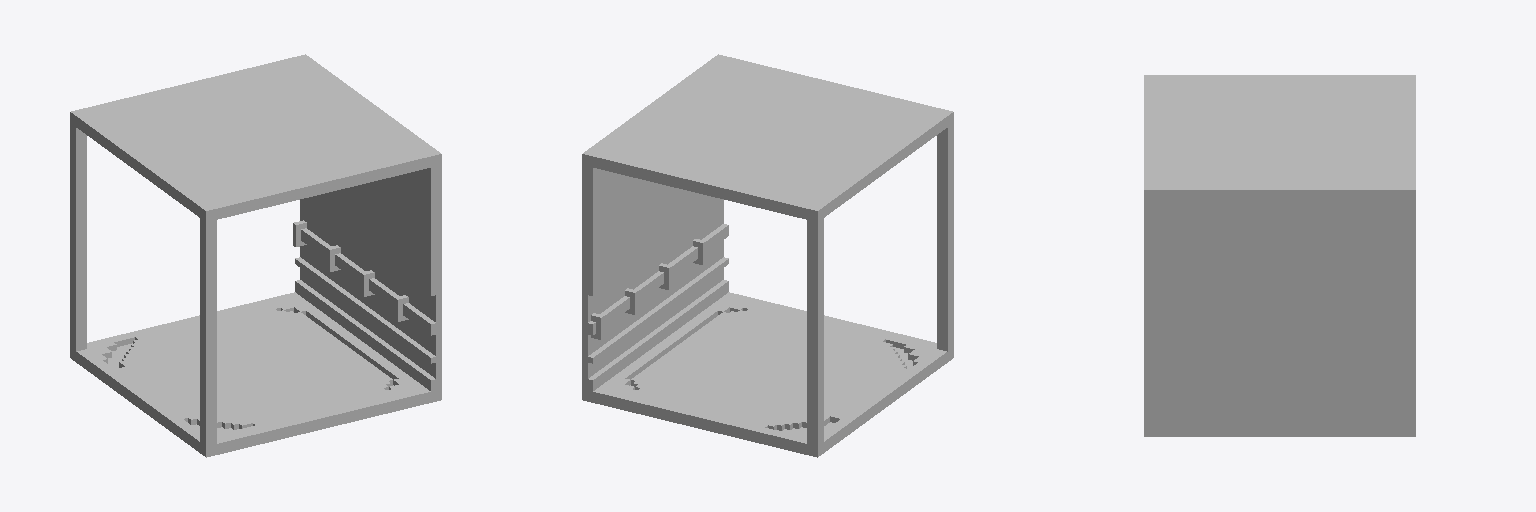
File: hallway pieces-0.obj
The picture shows the model from 3 angles: view 1: azimuth 30°, elevation 25°; view 2: azimuth 150°, elevation 25°; view 3: azimuth 270°, elevation 25°; orthographic projection.
Visible parts, largest first — view 1: object 1; view 2: object 1; view 3: object 1.
Part boxes in pixels (bbox=[...]): object 1: bbox=[70, 54, 441, 457]; object 1: bbox=[582, 54, 953, 457]; object 1: bbox=[1144, 75, 1415, 436].
Size of the model in its own units: 4.4 by 4.4 by 4.4.